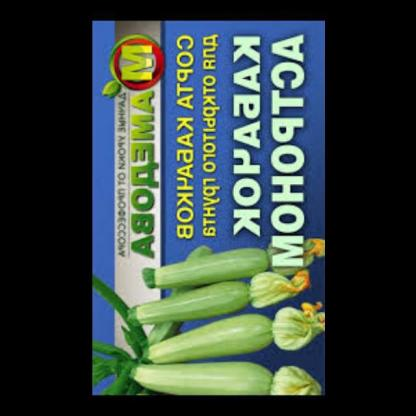vegetable marrow: (125, 354, 320, 416), (132, 316, 299, 371), (136, 247, 292, 304), (126, 282, 264, 326)
